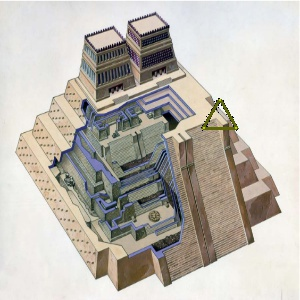triangle: (199, 97, 240, 134)
